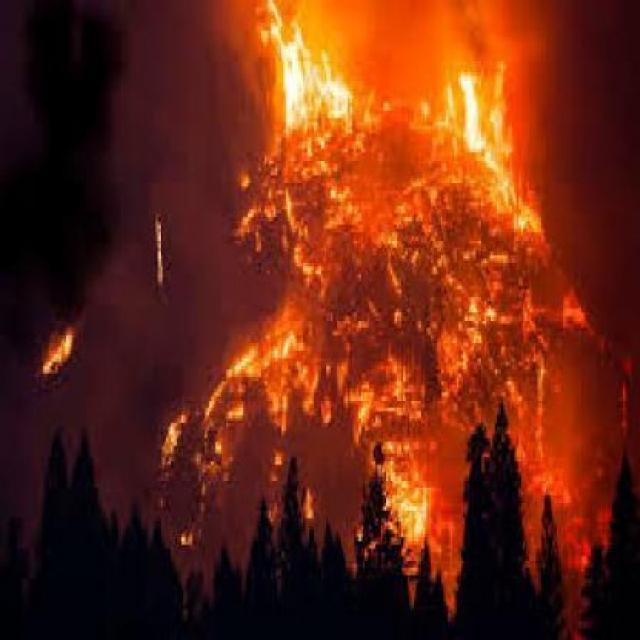Fire: (234, 4, 571, 281)
